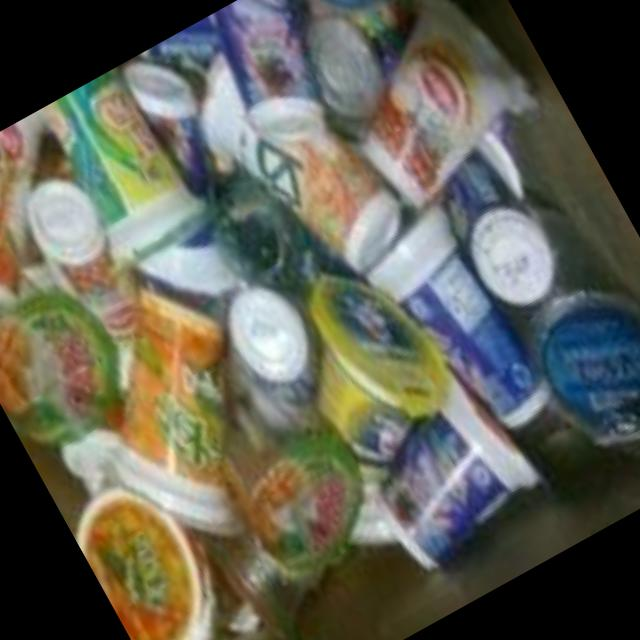GelasPlastik: (42, 268, 318, 580), (357, 189, 574, 466), (316, 0, 565, 219), (336, 364, 564, 597), (220, 70, 426, 314), (471, 190, 640, 480), (32, 64, 215, 281), (0, 107, 117, 330)
